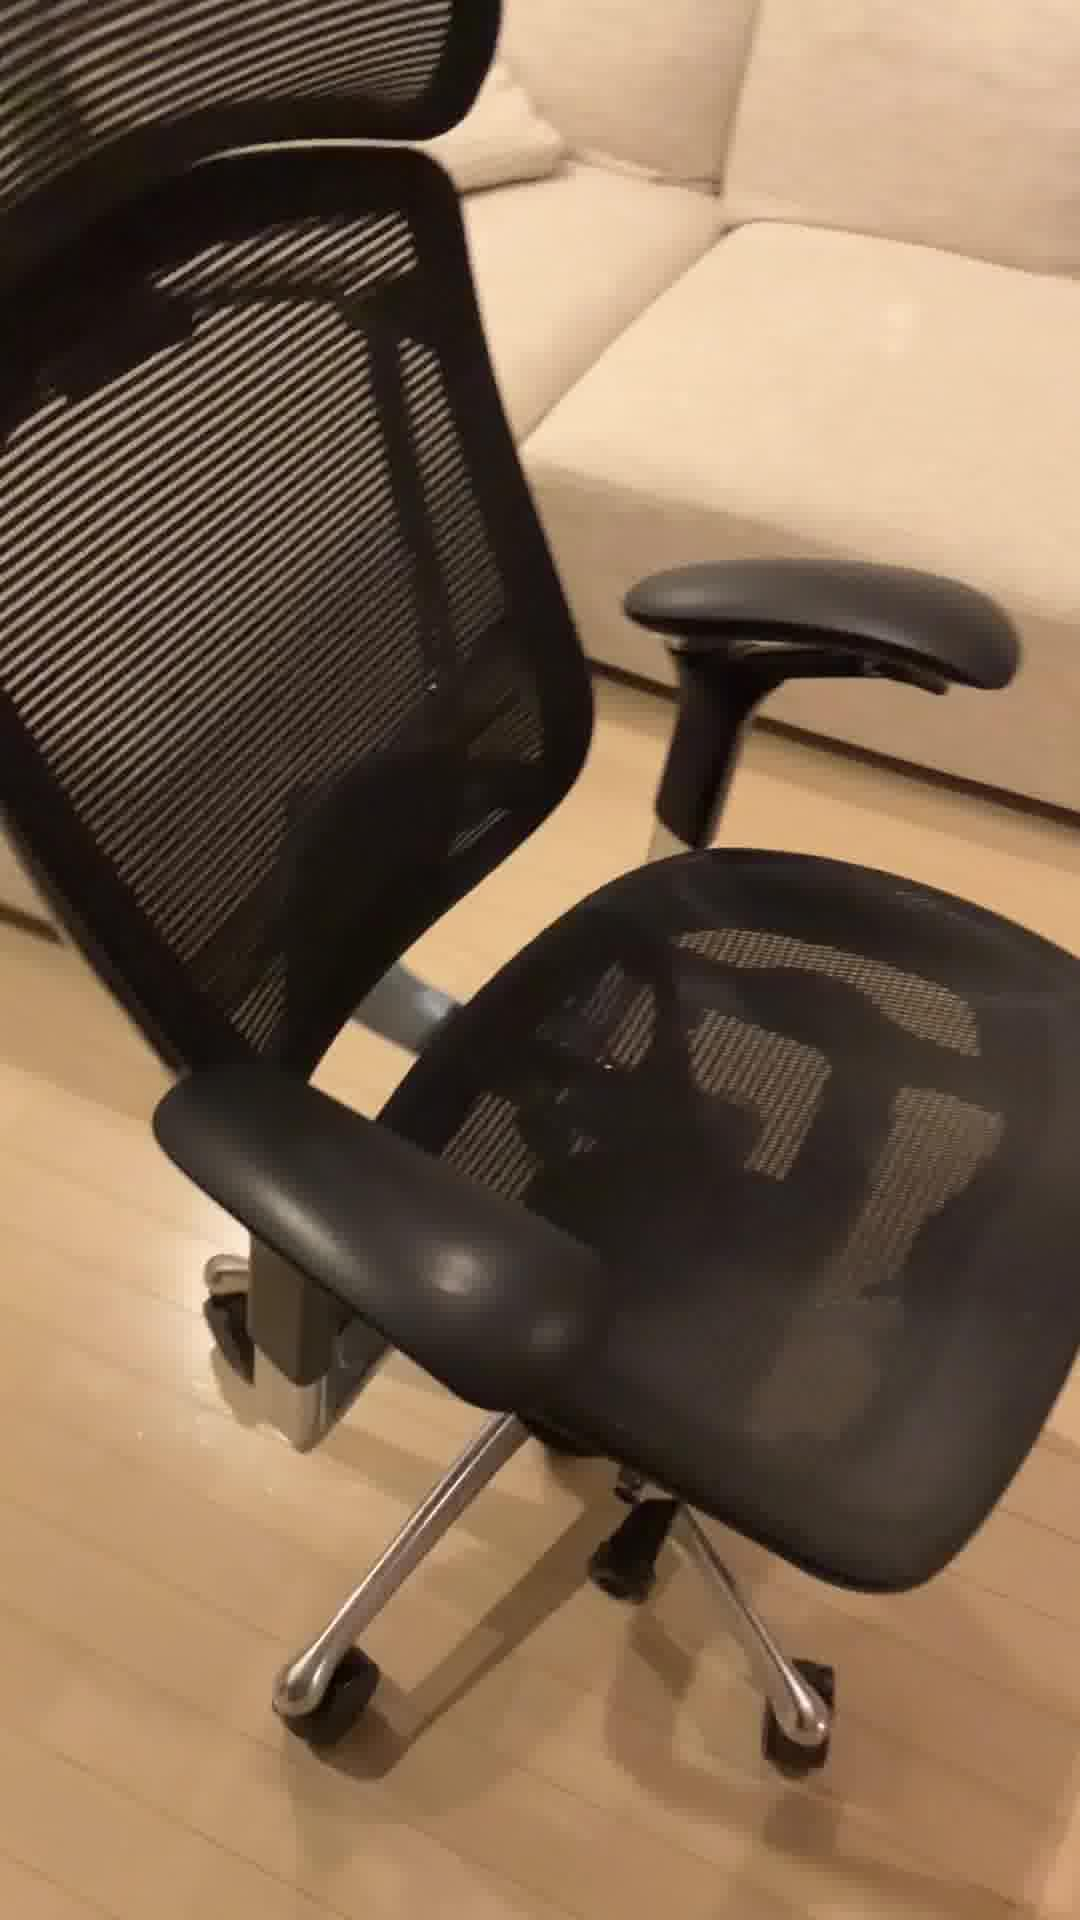okamura-contessa: (0, 0, 1080, 1783)
